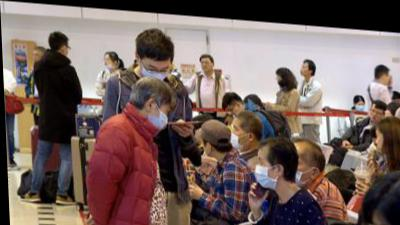NONE: (201, 132, 212, 155), (375, 127, 385, 146), (228, 101, 242, 114), (370, 102, 381, 116), (201, 56, 212, 69), (299, 58, 308, 72), (384, 101, 391, 114), (32, 52, 40, 60)
OK: (254, 149, 279, 186), (147, 100, 171, 130), (142, 59, 170, 83), (229, 118, 244, 148), (277, 72, 285, 84), (357, 96, 365, 106)
WRONG: (369, 211, 400, 225), (104, 55, 113, 68)
